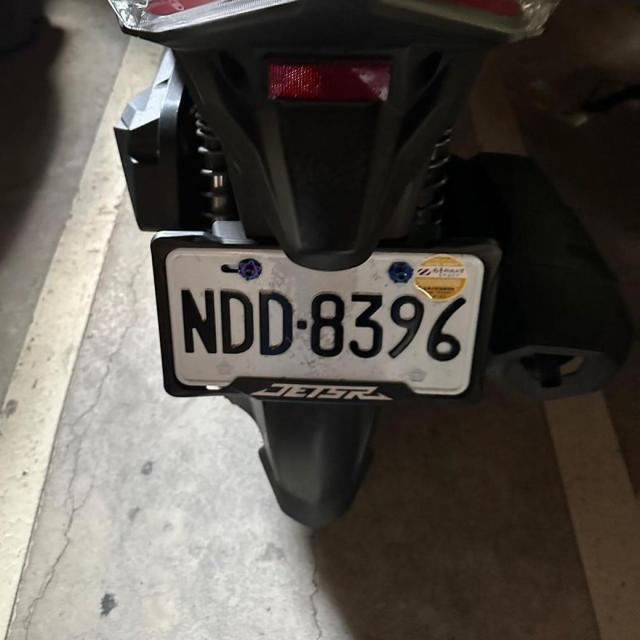W: (150, 230, 497, 412)
